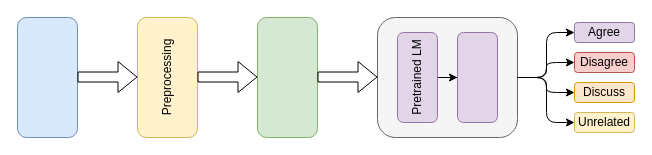
The diagram is 652 pixels wide and 155 high, and some of its shapes have lost their labels. The centre of each missing label's shape, as x and y in pixels:
"Balancing" belongs at point (287, 77).
"Dataset" belongs at point (47, 77).
"MultiLayer Neural Network" belongs at point (477, 77).
